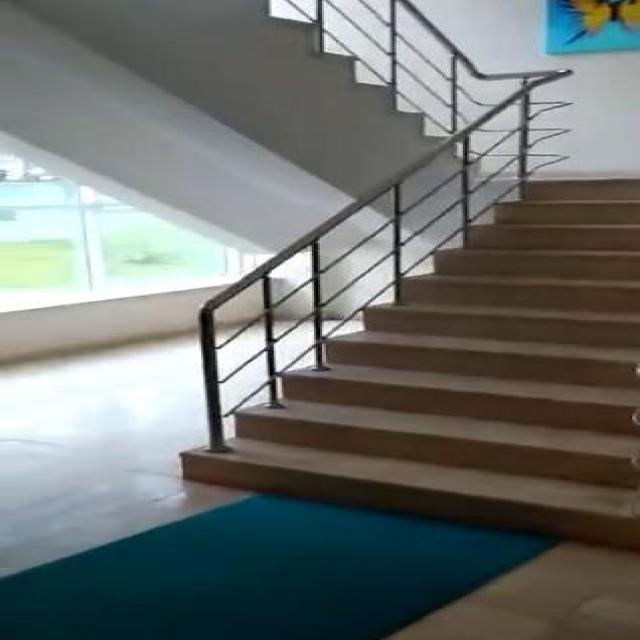Stairs: (146, 18, 636, 530)
